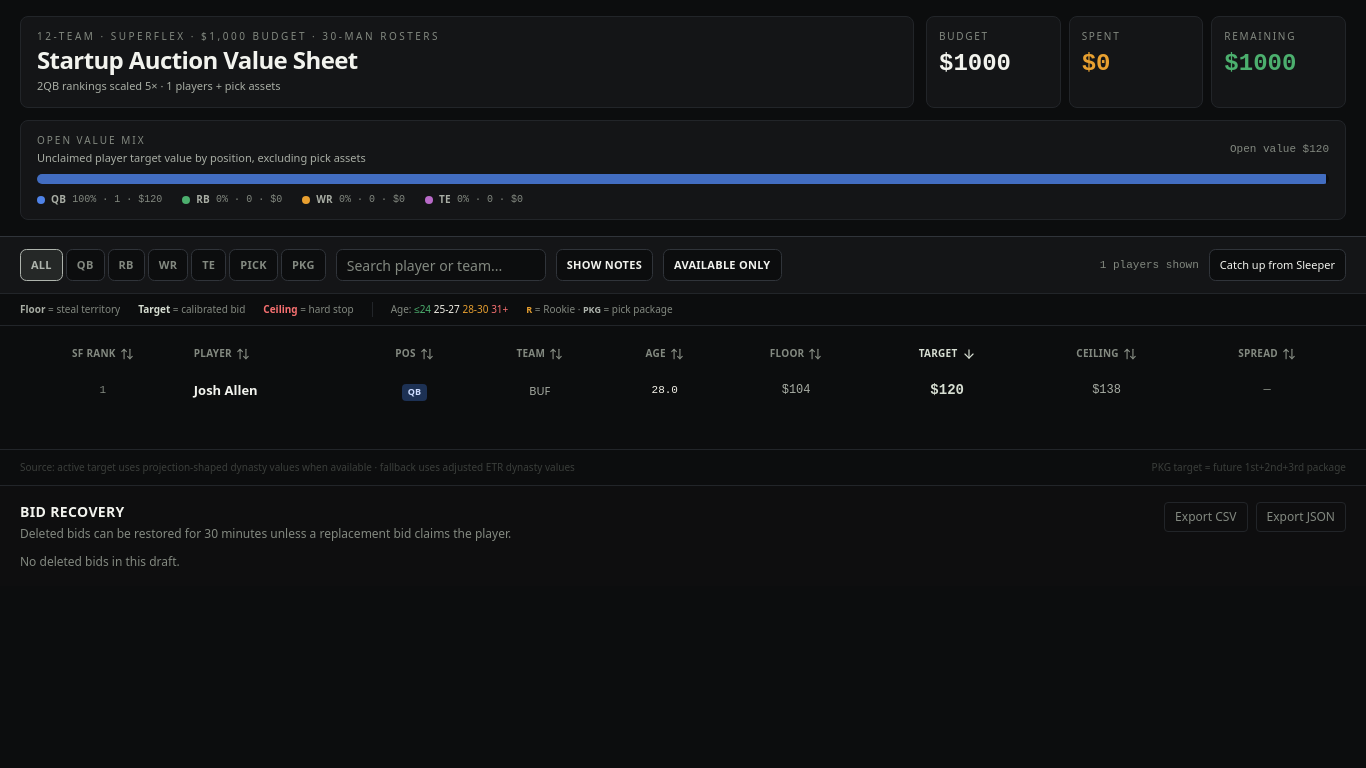
Test: AuctionSheet onboarding bid events › does not record a failed bid and keeps the existing error visible
Click the row with test id "player-row-1" at coordinates (683, 390), box [20,372,1346,409]
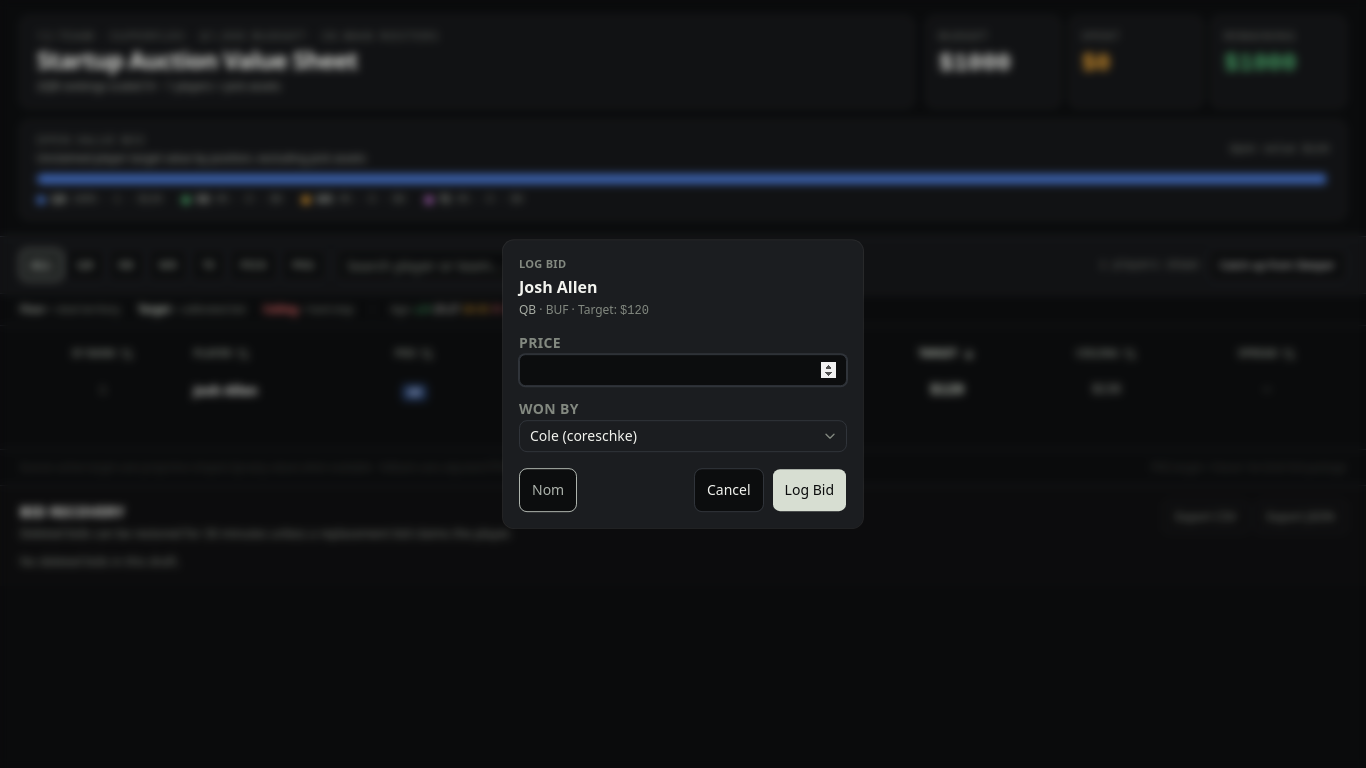
Type "110" into the number field with test id "bid-price" at coordinates (683, 370), box [519,354,847,386]
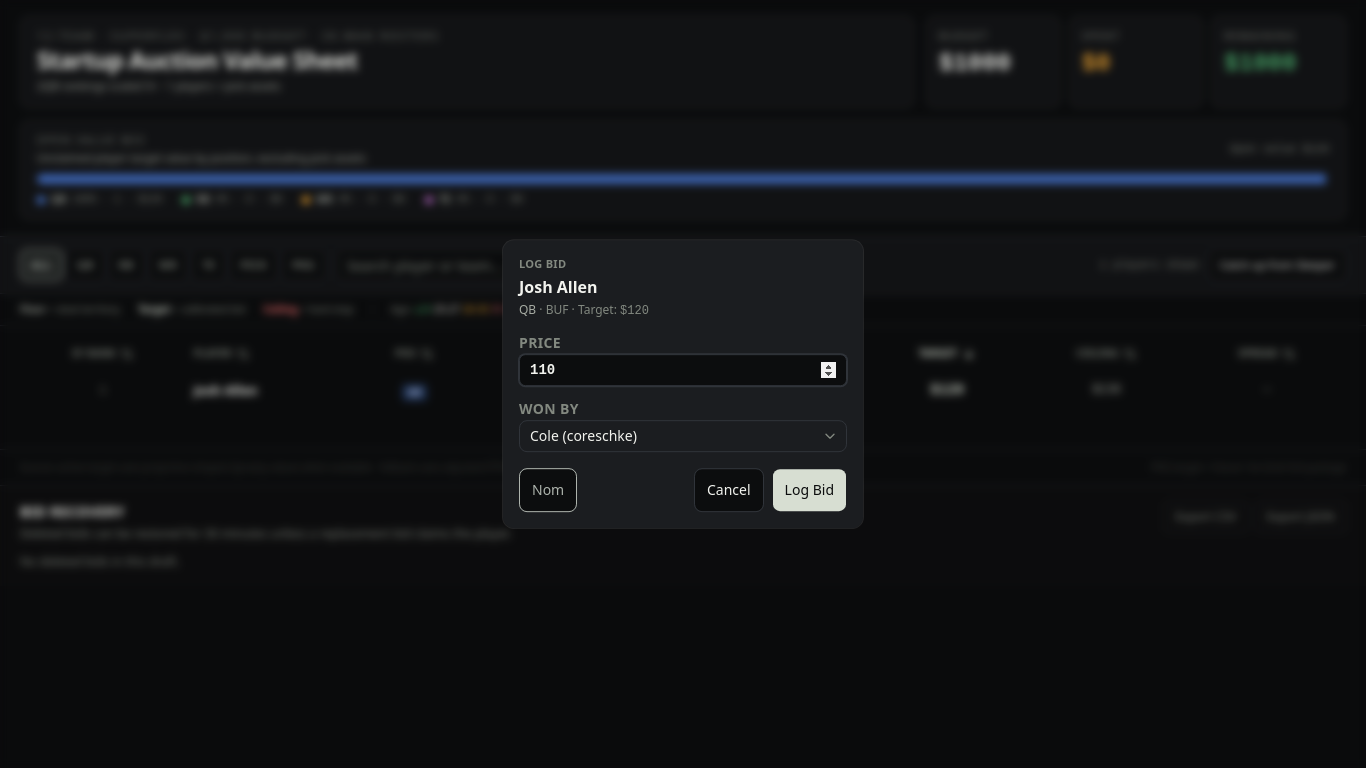
Click the button with test id "bid-submit" at coordinates (809, 490), box [772,468,847,512]
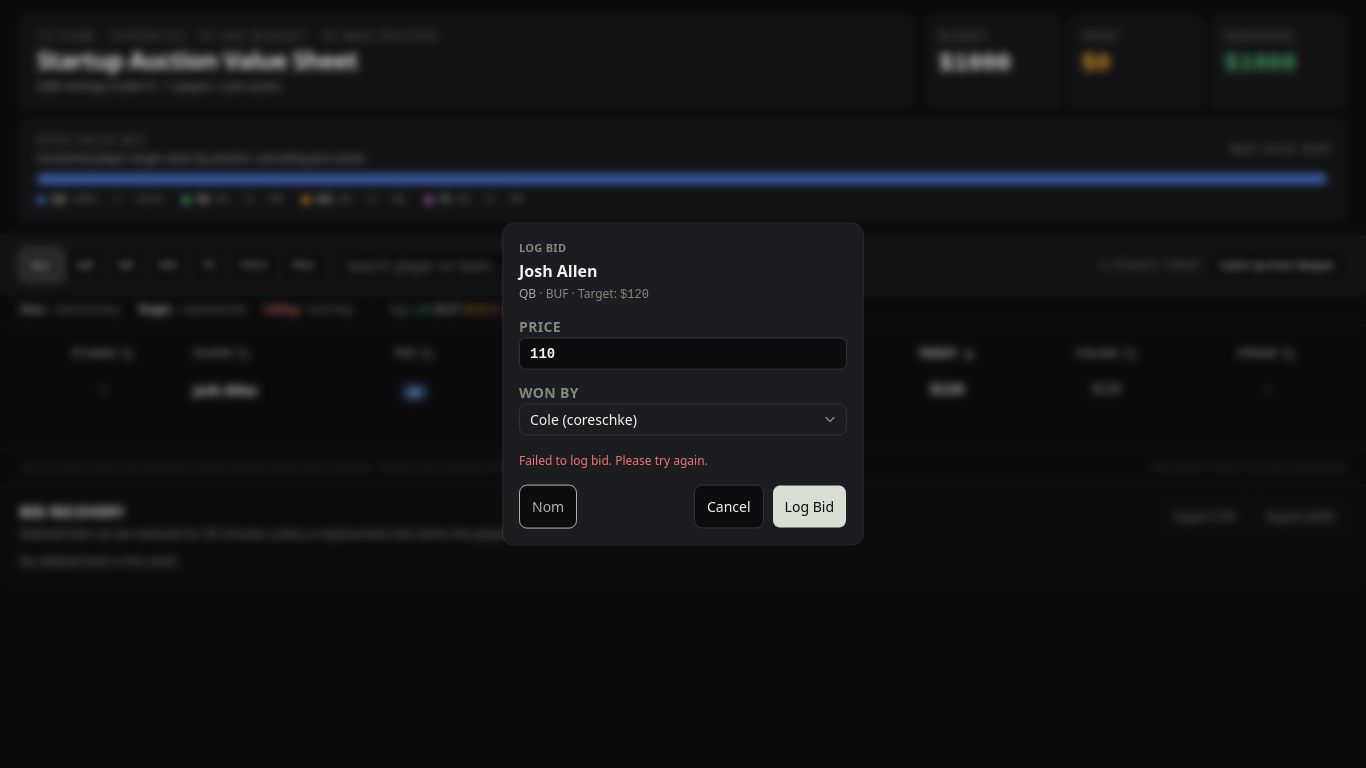
Expected: the text "Failed to log bid. Please try again." is shown, [519,451,708,468]
